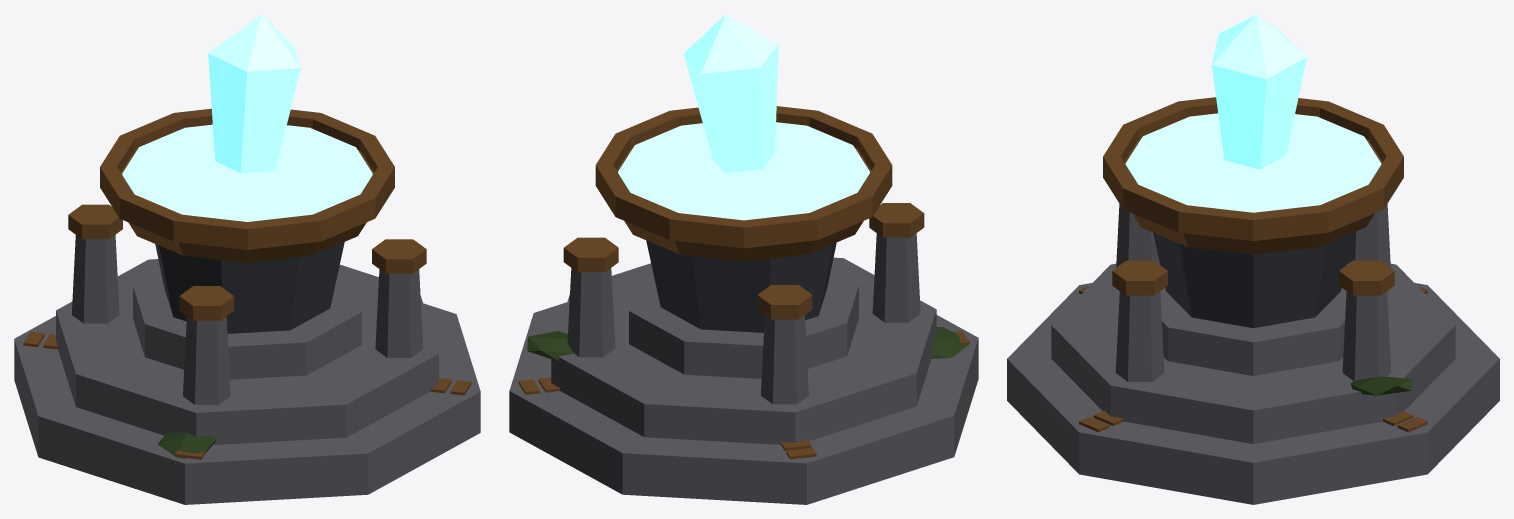
Rendered from Soul_Altar.glb.
3 renders of one model, left to right at view 1: azimuth 30°, elevation 25°; view 2: azimuth 150°, elevation 25°; view 3: azimuth 270°, elevation 25°, orthographic. The views are drawn at different scales.
Visible parts, largest first — view 1: Soul_Altar; view 2: Soul_Altar; view 3: Soul_Altar.
Part boxes in pixels (x1,y1,x2,y2): Soul_Altar: (14,14,480,504); Soul_Altar: (509,14,978,504); Soul_Altar: (1007,14,1499,504).
Bounding box in the file's own units: 2.12 × 1.87 × 2.12.
